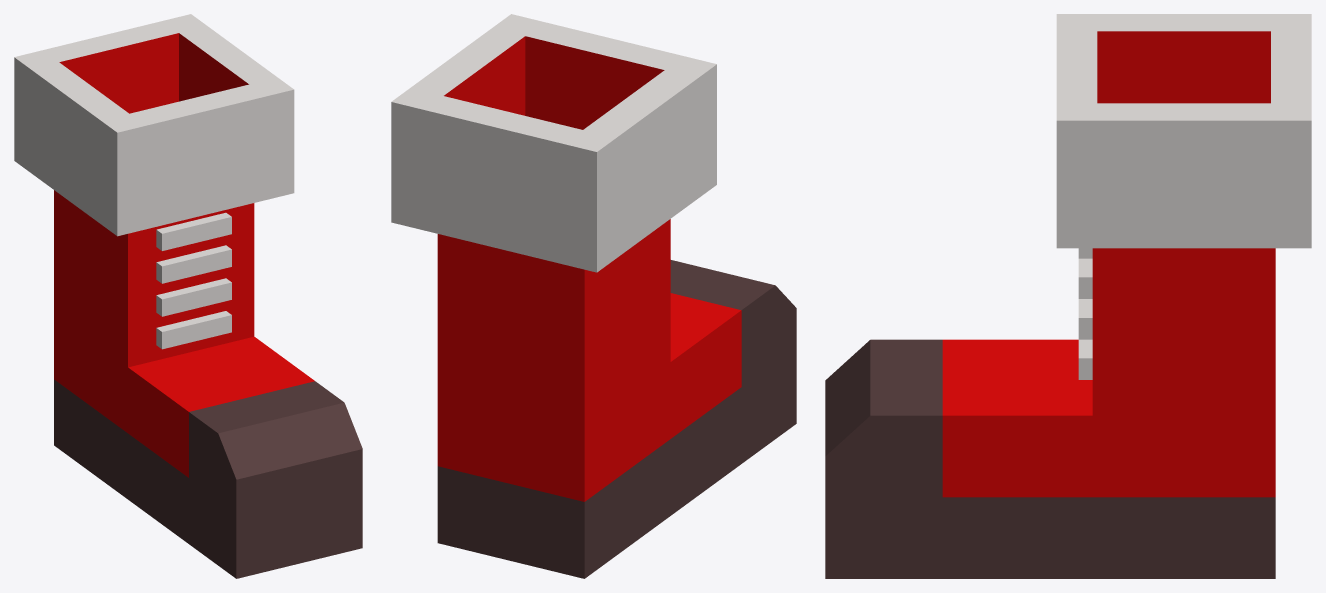
The model's file is 024 Shoes.fbx.
3 renders of one model, left to right at view 1: azimuth 30°, elevation 25°; view 2: azimuth 150°, elevation 25°; view 3: azimuth 270°, elevation 25°, orthographic. The views are drawn at different scales.
Parts seen in each view (by area): view 1: Lowpoly_Christmas_Pack_024:Lowpoly_Christmas_Pack_024:pCube6; view 2: Lowpoly_Christmas_Pack_024:Lowpoly_Christmas_Pack_024:pCube6; view 3: Lowpoly_Christmas_Pack_024:Lowpoly_Christmas_Pack_024:pCube6.
Part boxes in pixels (x1,y1,x2,y2): Lowpoly_Christmas_Pack_024:Lowpoly_Christmas_Pack_024:pCube6: (14, 14, 362, 578); Lowpoly_Christmas_Pack_024:Lowpoly_Christmas_Pack_024:pCube6: (391, 14, 796, 578); Lowpoly_Christmas_Pack_024:Lowpoly_Christmas_Pack_024:pCube6: (825, 14, 1311, 578).
Size of the model in its own units: 0.7 by 1.45 by 1.35.
